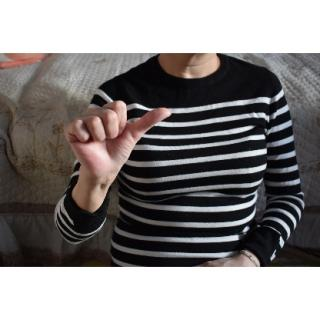DAD: (63, 96, 175, 188)
